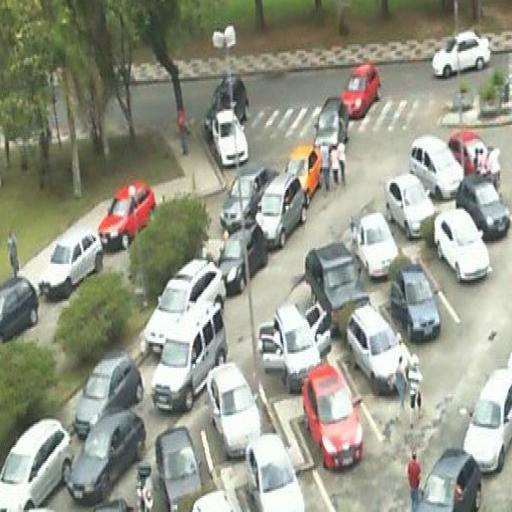car: (150, 299, 227, 419), (144, 257, 228, 359), (66, 412, 146, 506), (301, 364, 365, 477), (0, 417, 74, 512), (72, 352, 145, 443), (303, 243, 373, 336), (347, 304, 414, 400), (259, 304, 331, 390), (461, 368, 512, 478), (37, 225, 105, 306), (206, 361, 262, 459), (410, 445, 484, 512), (245, 433, 307, 512), (96, 180, 160, 255), (214, 220, 271, 301), (388, 264, 442, 348), (254, 169, 309, 250), (154, 424, 204, 512), (434, 208, 491, 285), (454, 172, 512, 244), (219, 164, 278, 234), (409, 134, 466, 200), (350, 211, 402, 282), (384, 174, 438, 241), (448, 126, 502, 192), (202, 72, 251, 137), (280, 141, 326, 209), (0, 274, 41, 348), (433, 30, 491, 79), (313, 95, 352, 164), (339, 64, 383, 124), (211, 109, 250, 171)
